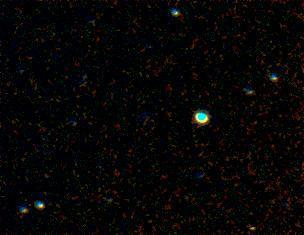star: (236, 212, 266, 235)
